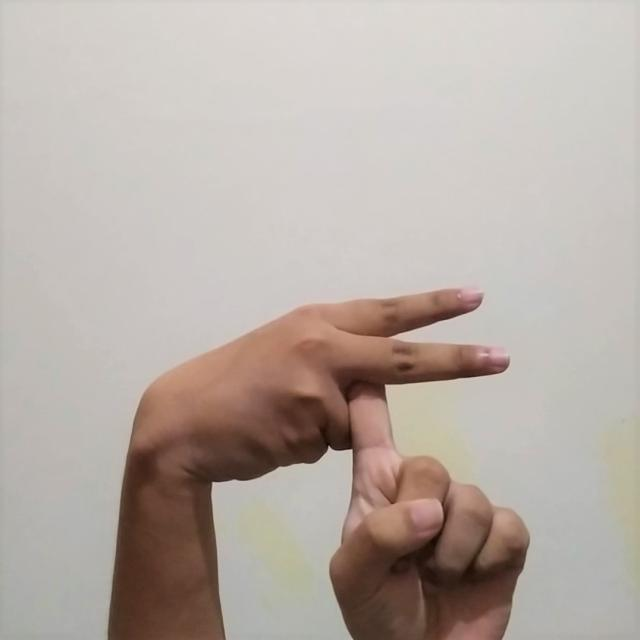F: (122, 277, 540, 613)
